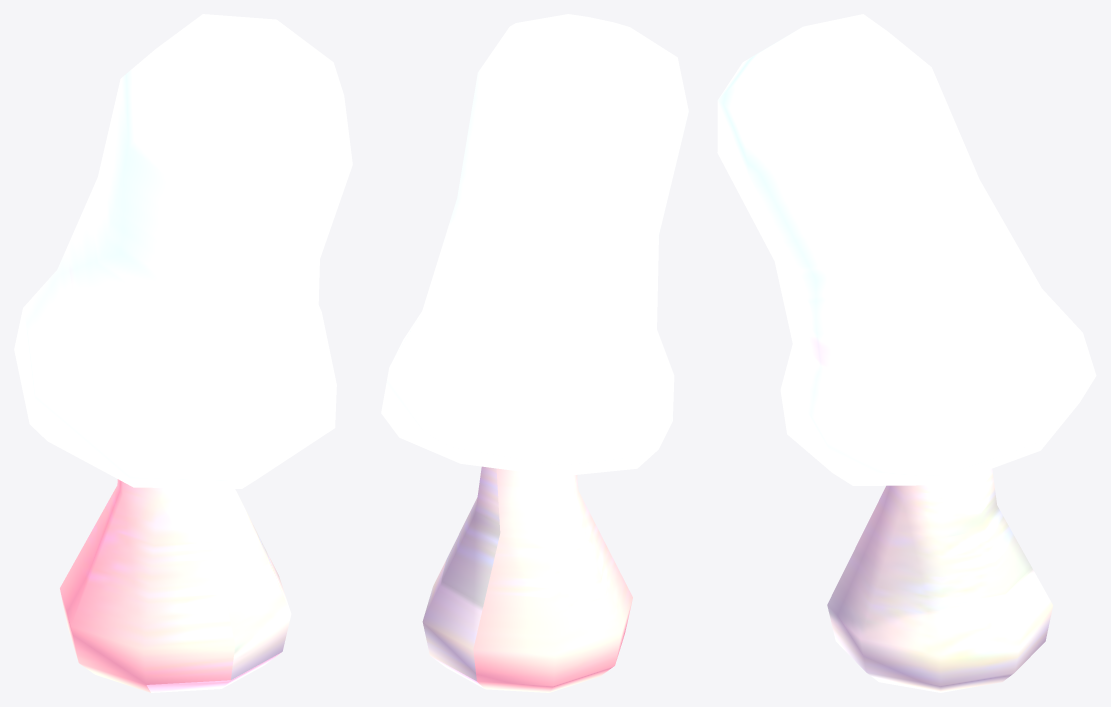
File: setaXS09.fbx
3 renders of one model, left to right at view 1: azimuth 30°, elevation 25°; view 2: azimuth 150°, elevation 25°; view 3: azimuth 270°, elevation 25°, orthographic. The views are drawn at different scales.
Parts seen in each view (by area): view 1: SetaXS09; view 2: SetaXS09; view 3: SetaXS09.
Boxes of the visible parts, bbox=[...] form: SetaXS09: bbox=[14, 14, 352, 692]; SetaXS09: bbox=[381, 14, 688, 692]; SetaXS09: bbox=[717, 14, 1096, 692].
Bounding box in the file's own units: 222 × 484 × 266.
